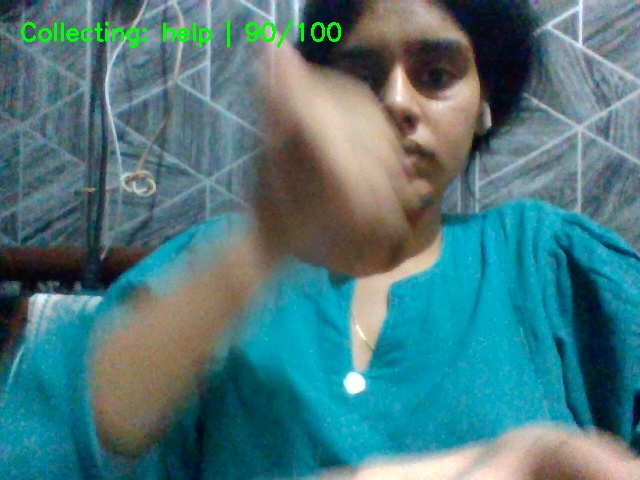help: (240, 21, 595, 480)
